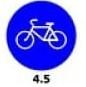road_sign: (7, 1, 75, 69)
